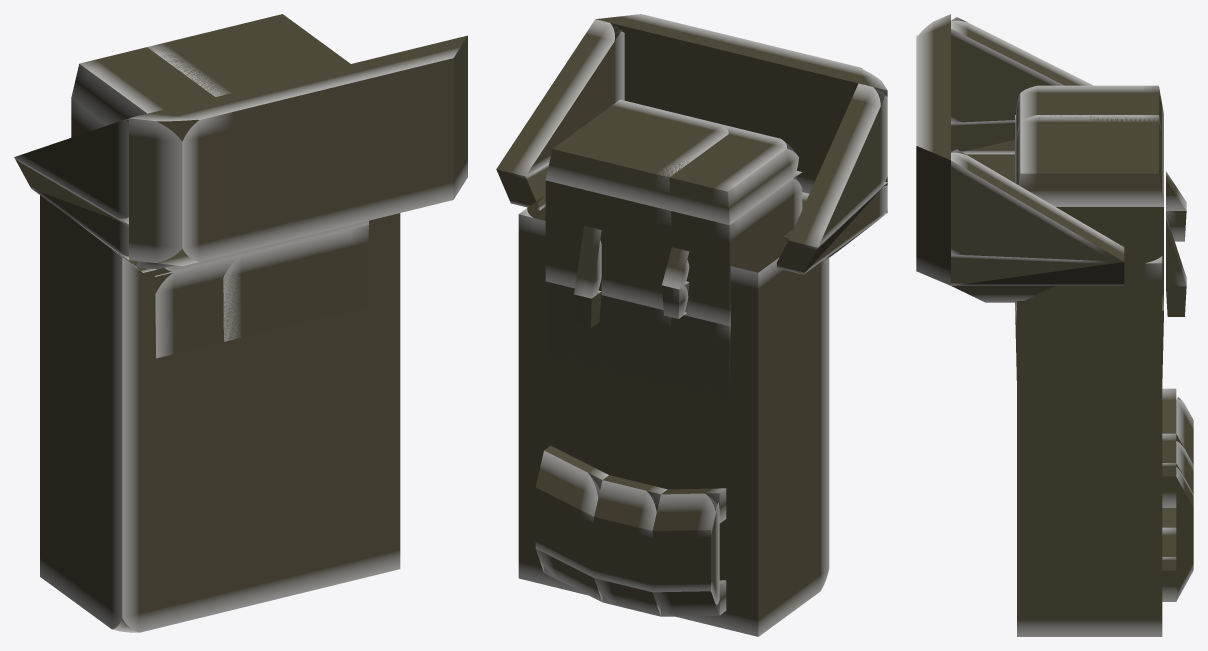
File: hoodie3.obj
The picture shows the model from 3 angles, left to right: view 1: azimuth 30°, elevation 25°; view 2: azimuth 150°, elevation 25°; view 3: azimuth 270°, elevation 25°; orthographic projection. The views are drawn at different scales.
Visible parts, largest first — view 1: bodyModel0, bodyModel17, leftArmModel1, leftArmModel2, rightArmModel2, rightArmModel1, bodyModel16, bodyModel19, rightArmModel0; view 2: bodyModel0, bodyModel17, rightArmModel0, leftArmModel2, leftArmModel0, rightArmModel2, bodyModel20, bodyModel16, rightArmModel1, bodyModel3, leftArmModel1, bodyModel4 (+9 smaller); view 3: bodyModel0, leftArmModel2, bodyModel20, bodyModel17, bodyModel16, bodyModel21, rightArmModel2, leftArmModel0, bodyModel19, bodyModel4, bodyModel18, bodyModel13 (+10 smaller).
Part boxes in pixels (bbox=[...]): bodyModel0: bbox=[40, 195, 400, 632]; bodyModel17: bbox=[129, 35, 467, 266]; leftArmModel1: bbox=[223, 225, 368, 341]; leftArmModel2: bbox=[147, 14, 350, 96]; rightArmModel2: bbox=[71, 31, 277, 124]; rightArmModel1: bbox=[154, 243, 298, 358]; bodyModel16: bbox=[14, 119, 162, 224]; bodyModel19: bbox=[14, 157, 128, 259]; rightArmModel0: bbox=[71, 98, 293, 276]; bodyModel0: bbox=[518, 195, 829, 636]; bodyModel17: bbox=[596, 14, 887, 212]; rightArmModel0: bbox=[604, 177, 802, 326]; leftArmModel2: bbox=[545, 99, 728, 210]; leftArmModel0: bbox=[545, 180, 671, 309]; rightArmModel2: bbox=[605, 124, 801, 225]; bodyModel20: bbox=[496, 19, 624, 176]; bodyModel16: bbox=[789, 83, 887, 247]; rightArmModel1: bbox=[604, 295, 730, 396]; bodyModel3: bbox=[652, 493, 719, 616]; leftArmModel1: bbox=[545, 281, 671, 382]; bodyModel4: bbox=[535, 450, 602, 601]; bodyModel0: bbox=[1017, 256, 1162, 636]; leftArmModel2: bbox=[1015, 115, 1163, 206]; bodyModel20: bbox=[951, 149, 1124, 261]; bodyModel17: bbox=[916, 14, 950, 285]; bodyModel16: bbox=[951, 17, 1093, 122]; bodyModel21: bbox=[951, 254, 1124, 285]; rightArmModel2: bbox=[1015, 85, 1163, 151]; leftArmModel0: bbox=[1015, 207, 1163, 310]; bodyModel19: bbox=[951, 120, 1014, 154]; bodyModel4: bbox=[1176, 467, 1193, 601]; bodyModel18: bbox=[951, 154, 1054, 302]; bodyModel13: bbox=[1166, 216, 1186, 286].
Size of the model in its own units: 11 by 15.6 by 8.
